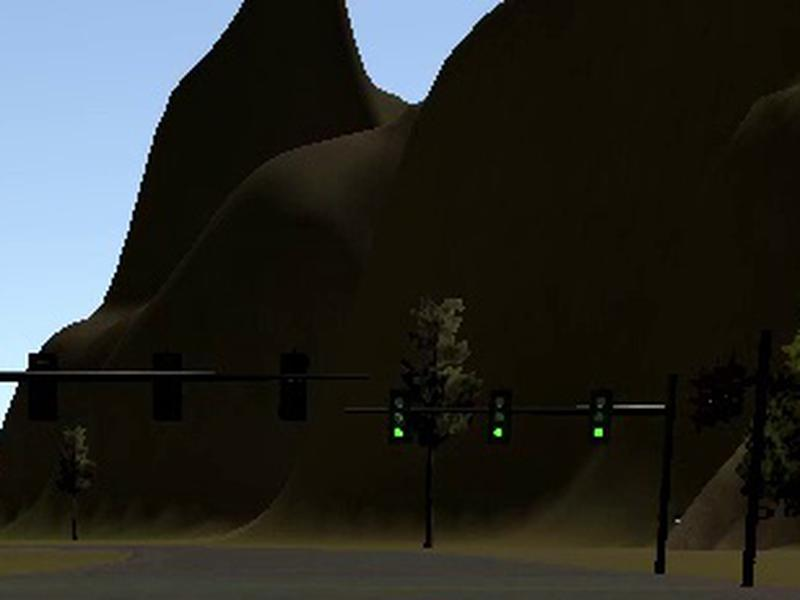Green: (589, 389, 613, 444), (488, 390, 512, 444), (388, 389, 410, 444)
